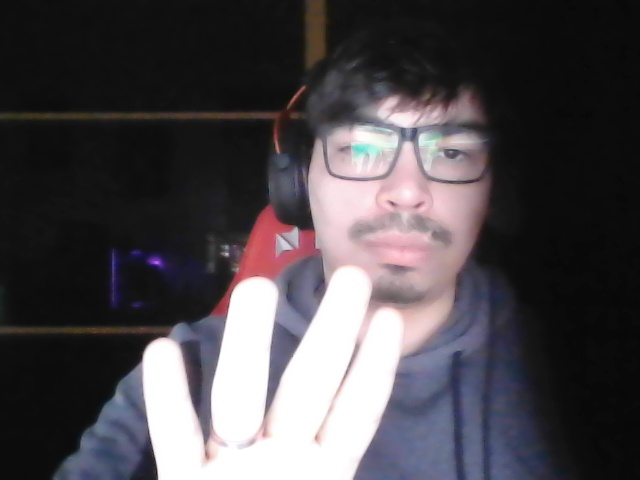four: (121, 256, 435, 480)
